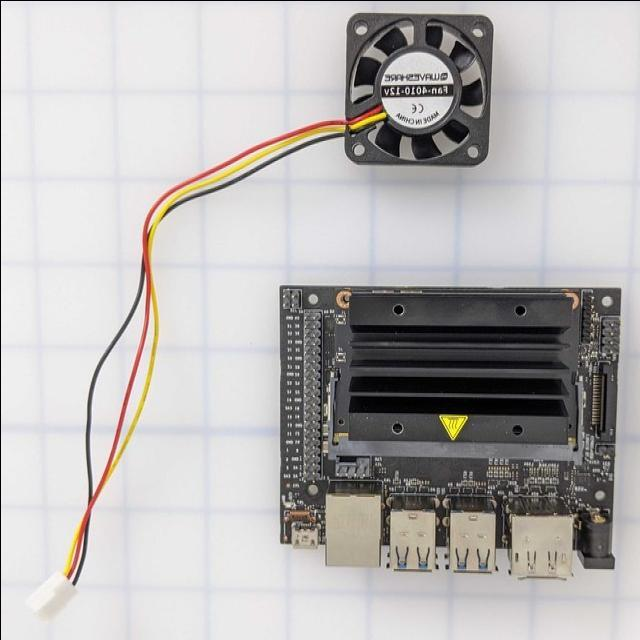Jetson Nano: (280, 286, 622, 578)
